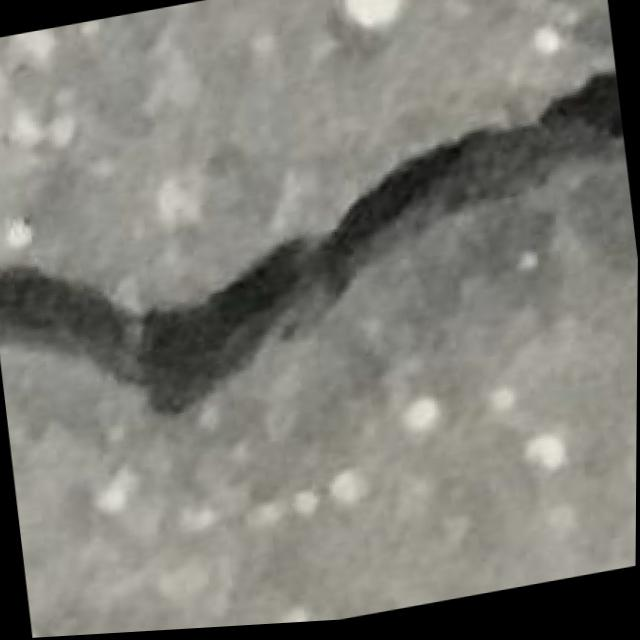Crack: (0, 76, 639, 444)
